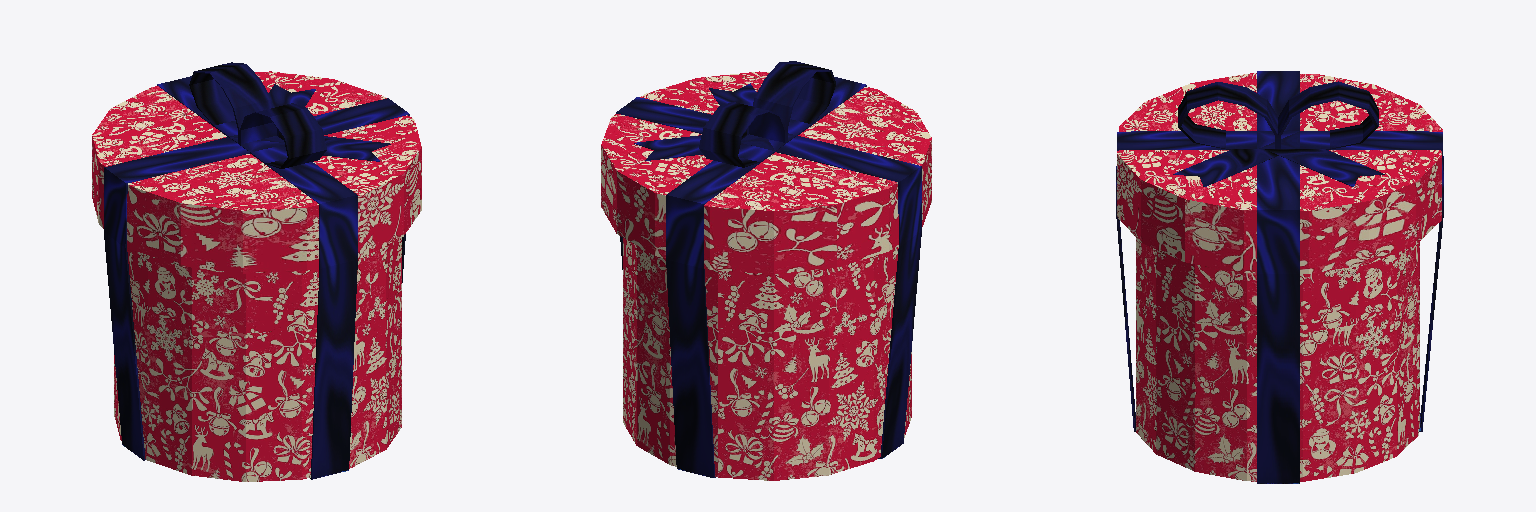
3 renders of one model, left to right at view 1: azimuth 30°, elevation 25°; view 2: azimuth 150°, elevation 25°; view 3: azimuth 270°, elevation 25°, orthographic.
Parts seen in each view (by area): view 1: redcylinderbox; view 2: redcylinderbox; view 3: redcylinderbox.
Part boxes in pixels (x1,y1,x2,y2): redcylinderbox: (92, 62, 421, 481); redcylinderbox: (601, 61, 931, 480); redcylinderbox: (1116, 71, 1443, 483).
Size of the model in its own units: 2.27 by 2.54 by 2.27.
Materials: 2 (2 with a texture image).